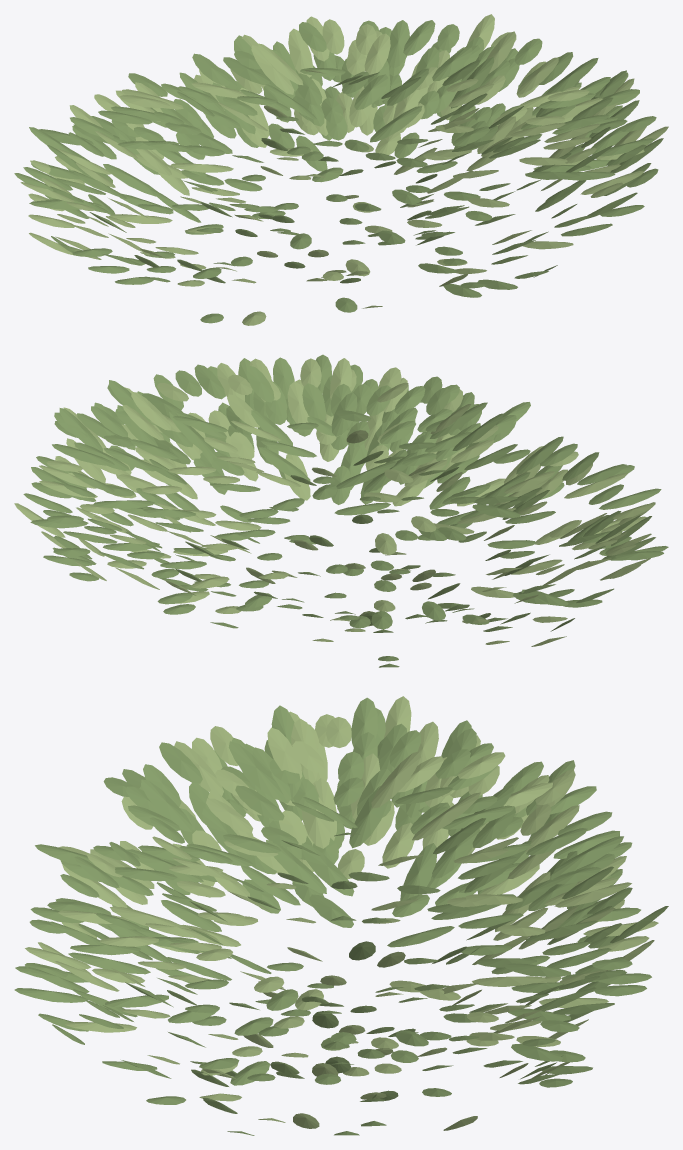
Rendered from shrub.glb.
The picture shows the model from 3 angles, top to bottom: view 1: azimuth 30°, elevation 25°; view 2: azimuth 150°, elevation 25°; view 3: azimuth 270°, elevation 25°; orthographic projection. The views are drawn at different scales.
Visible parts, largest first — view 1: Shrub_Leaf, Shrub_LeafLight; view 2: Shrub_Leaf, Shrub_LeafLight; view 3: Shrub_Leaf, Shrub_LeafLight.
Part boxes in pixels (x1,y1,x2,y2): Shrub_Leaf: (14, 20, 663, 323); Shrub_LeafLight: (20, 14, 668, 325); Shrub_Leaf: (23, 354, 668, 667); Shrub_LeafLight: (14, 358, 655, 646); Shrub_Leaf: (14, 697, 668, 1135); Shrub_LeafLight: (25, 696, 658, 1130).
Size of the model in its own units: 2.55 by 0.7384 by 1.97.
